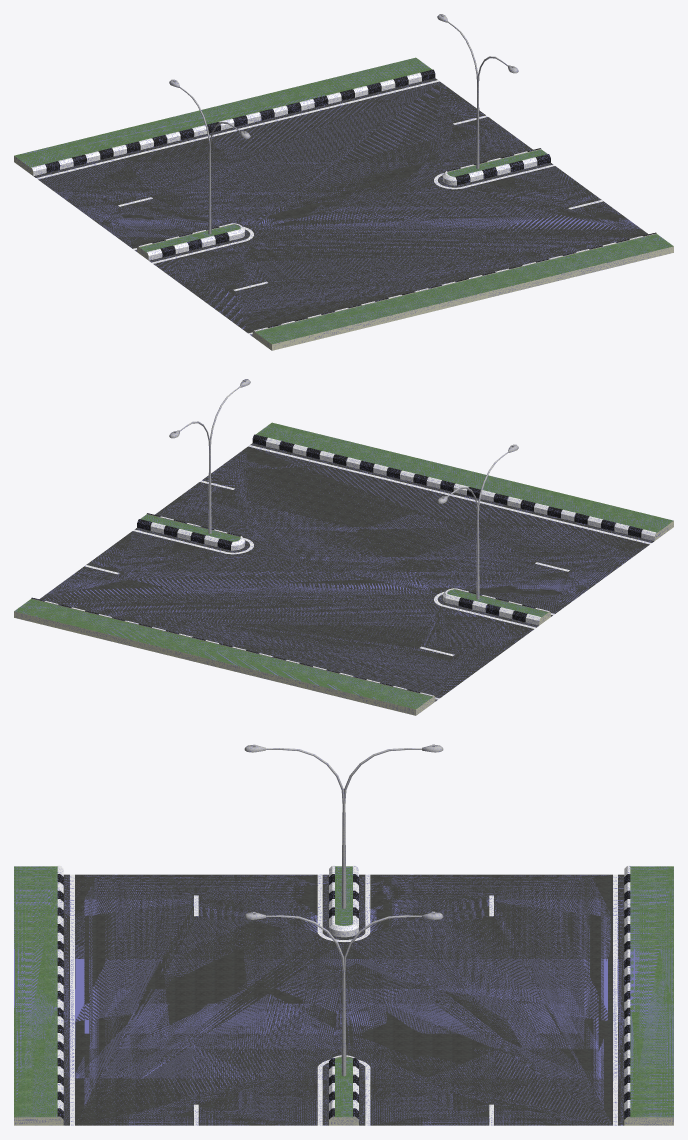
The picture shows the model from 3 angles, top to bottom: view 1: azimuth 30°, elevation 25°; view 2: azimuth 150°, elevation 25°; view 3: azimuth 270°, elevation 25°; orthographic projection. The views are drawn at different scales.
Parts seen in each view (by area): view 1: SketchUp (×8); view 2: SketchUp (×8); view 3: SketchUp (×13), Light_Street_Curved_18_ (×2).
Part boxes in pixels (x1,y1,x2,y2): SketchUp (×8): (14, 57, 673, 350); SketchUp (×8): (14, 422, 673, 715); SketchUp (×13): (14, 866, 673, 1125); Light_Street_Curved_18_ (×2): (266, 748, 346, 1076).
Size of the model in its own units: 720 by 800 by 229.
Materials: 8 (2 with a texture image).
